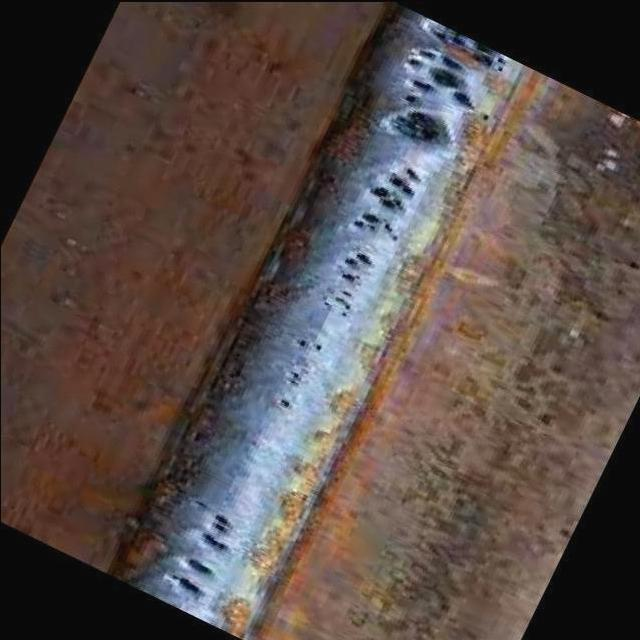defect: (345, 159, 426, 243), (416, 19, 515, 73), (405, 44, 480, 111), (184, 490, 247, 557), (383, 89, 452, 148), (165, 555, 221, 605), (334, 247, 380, 289), (314, 284, 364, 321), (273, 394, 301, 417), (280, 365, 305, 389), (293, 337, 326, 354)
